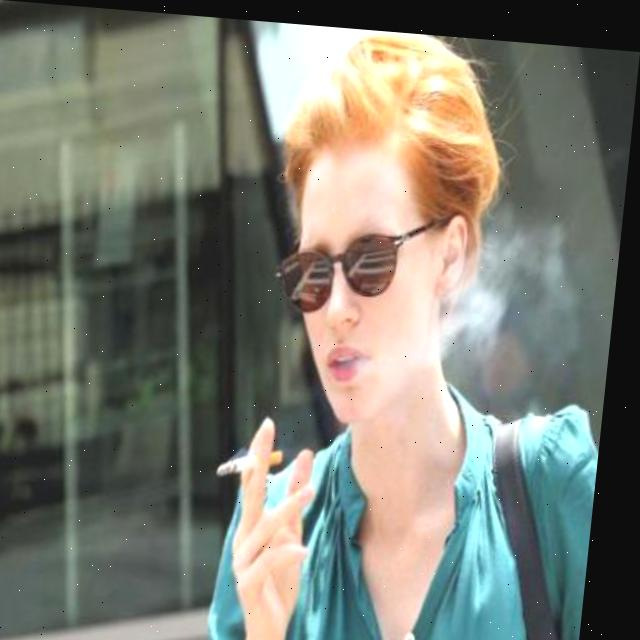cigarette: (223, 440, 295, 480)
